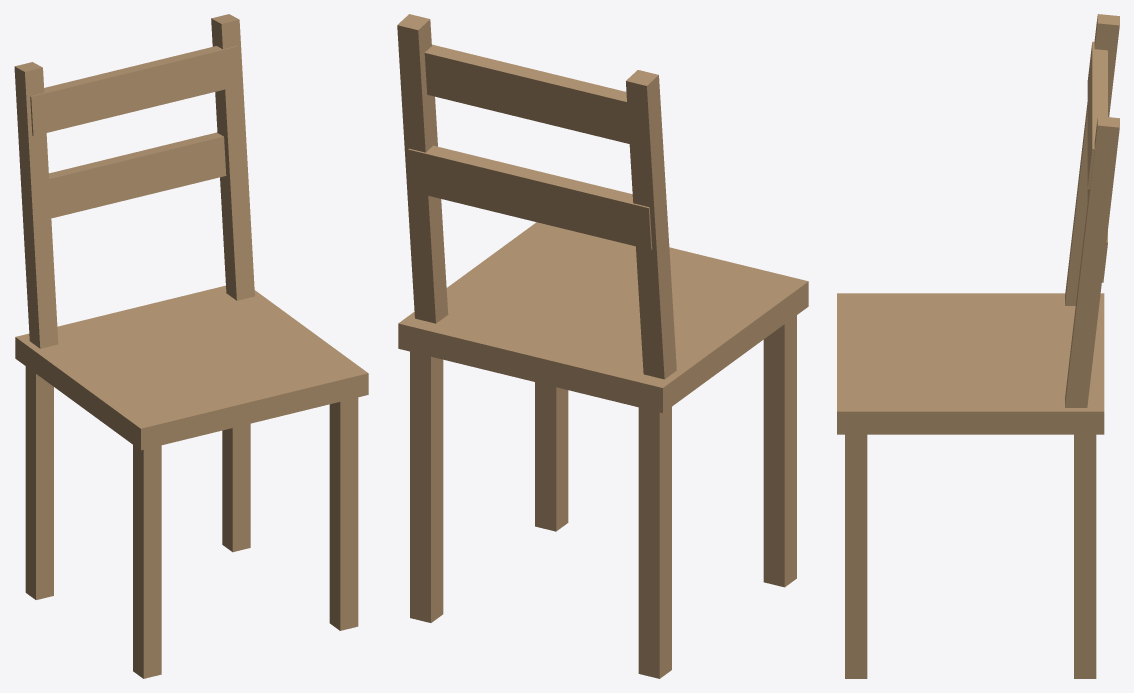
File: chair.glb
The picture shows the model from 3 angles, left to right: view 1: azimuth 30°, elevation 25°; view 2: azimuth 150°, elevation 25°; view 3: azimuth 270°, elevation 25°; orthographic projection. The views are drawn at different scales.
Parts seen in each view (by area): view 1: chair; view 2: chair; view 3: chair.
Boxes of the visible parts, x1,y1,x2,y2 form: chair: (14,14,368,678); chair: (397,14,808,678); chair: (837,14,1119,678).
Bounding box in the file's own units: 0.44 × 0.9604 × 0.4446.
